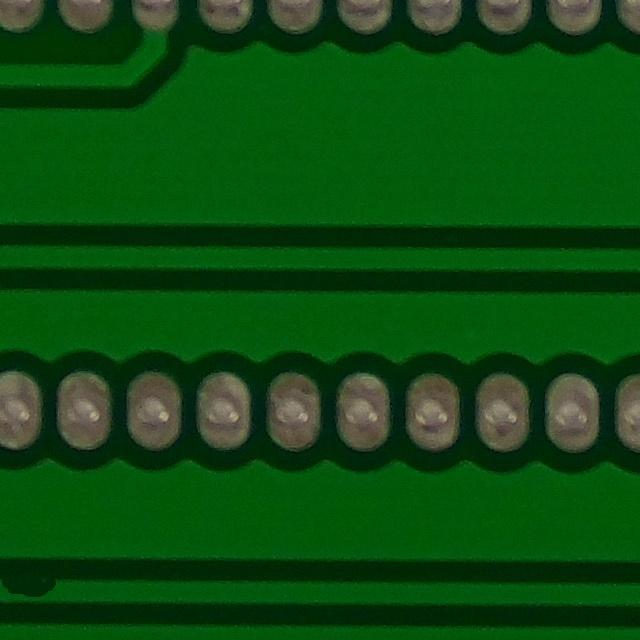mouse_bite: (0, 559, 78, 616)
